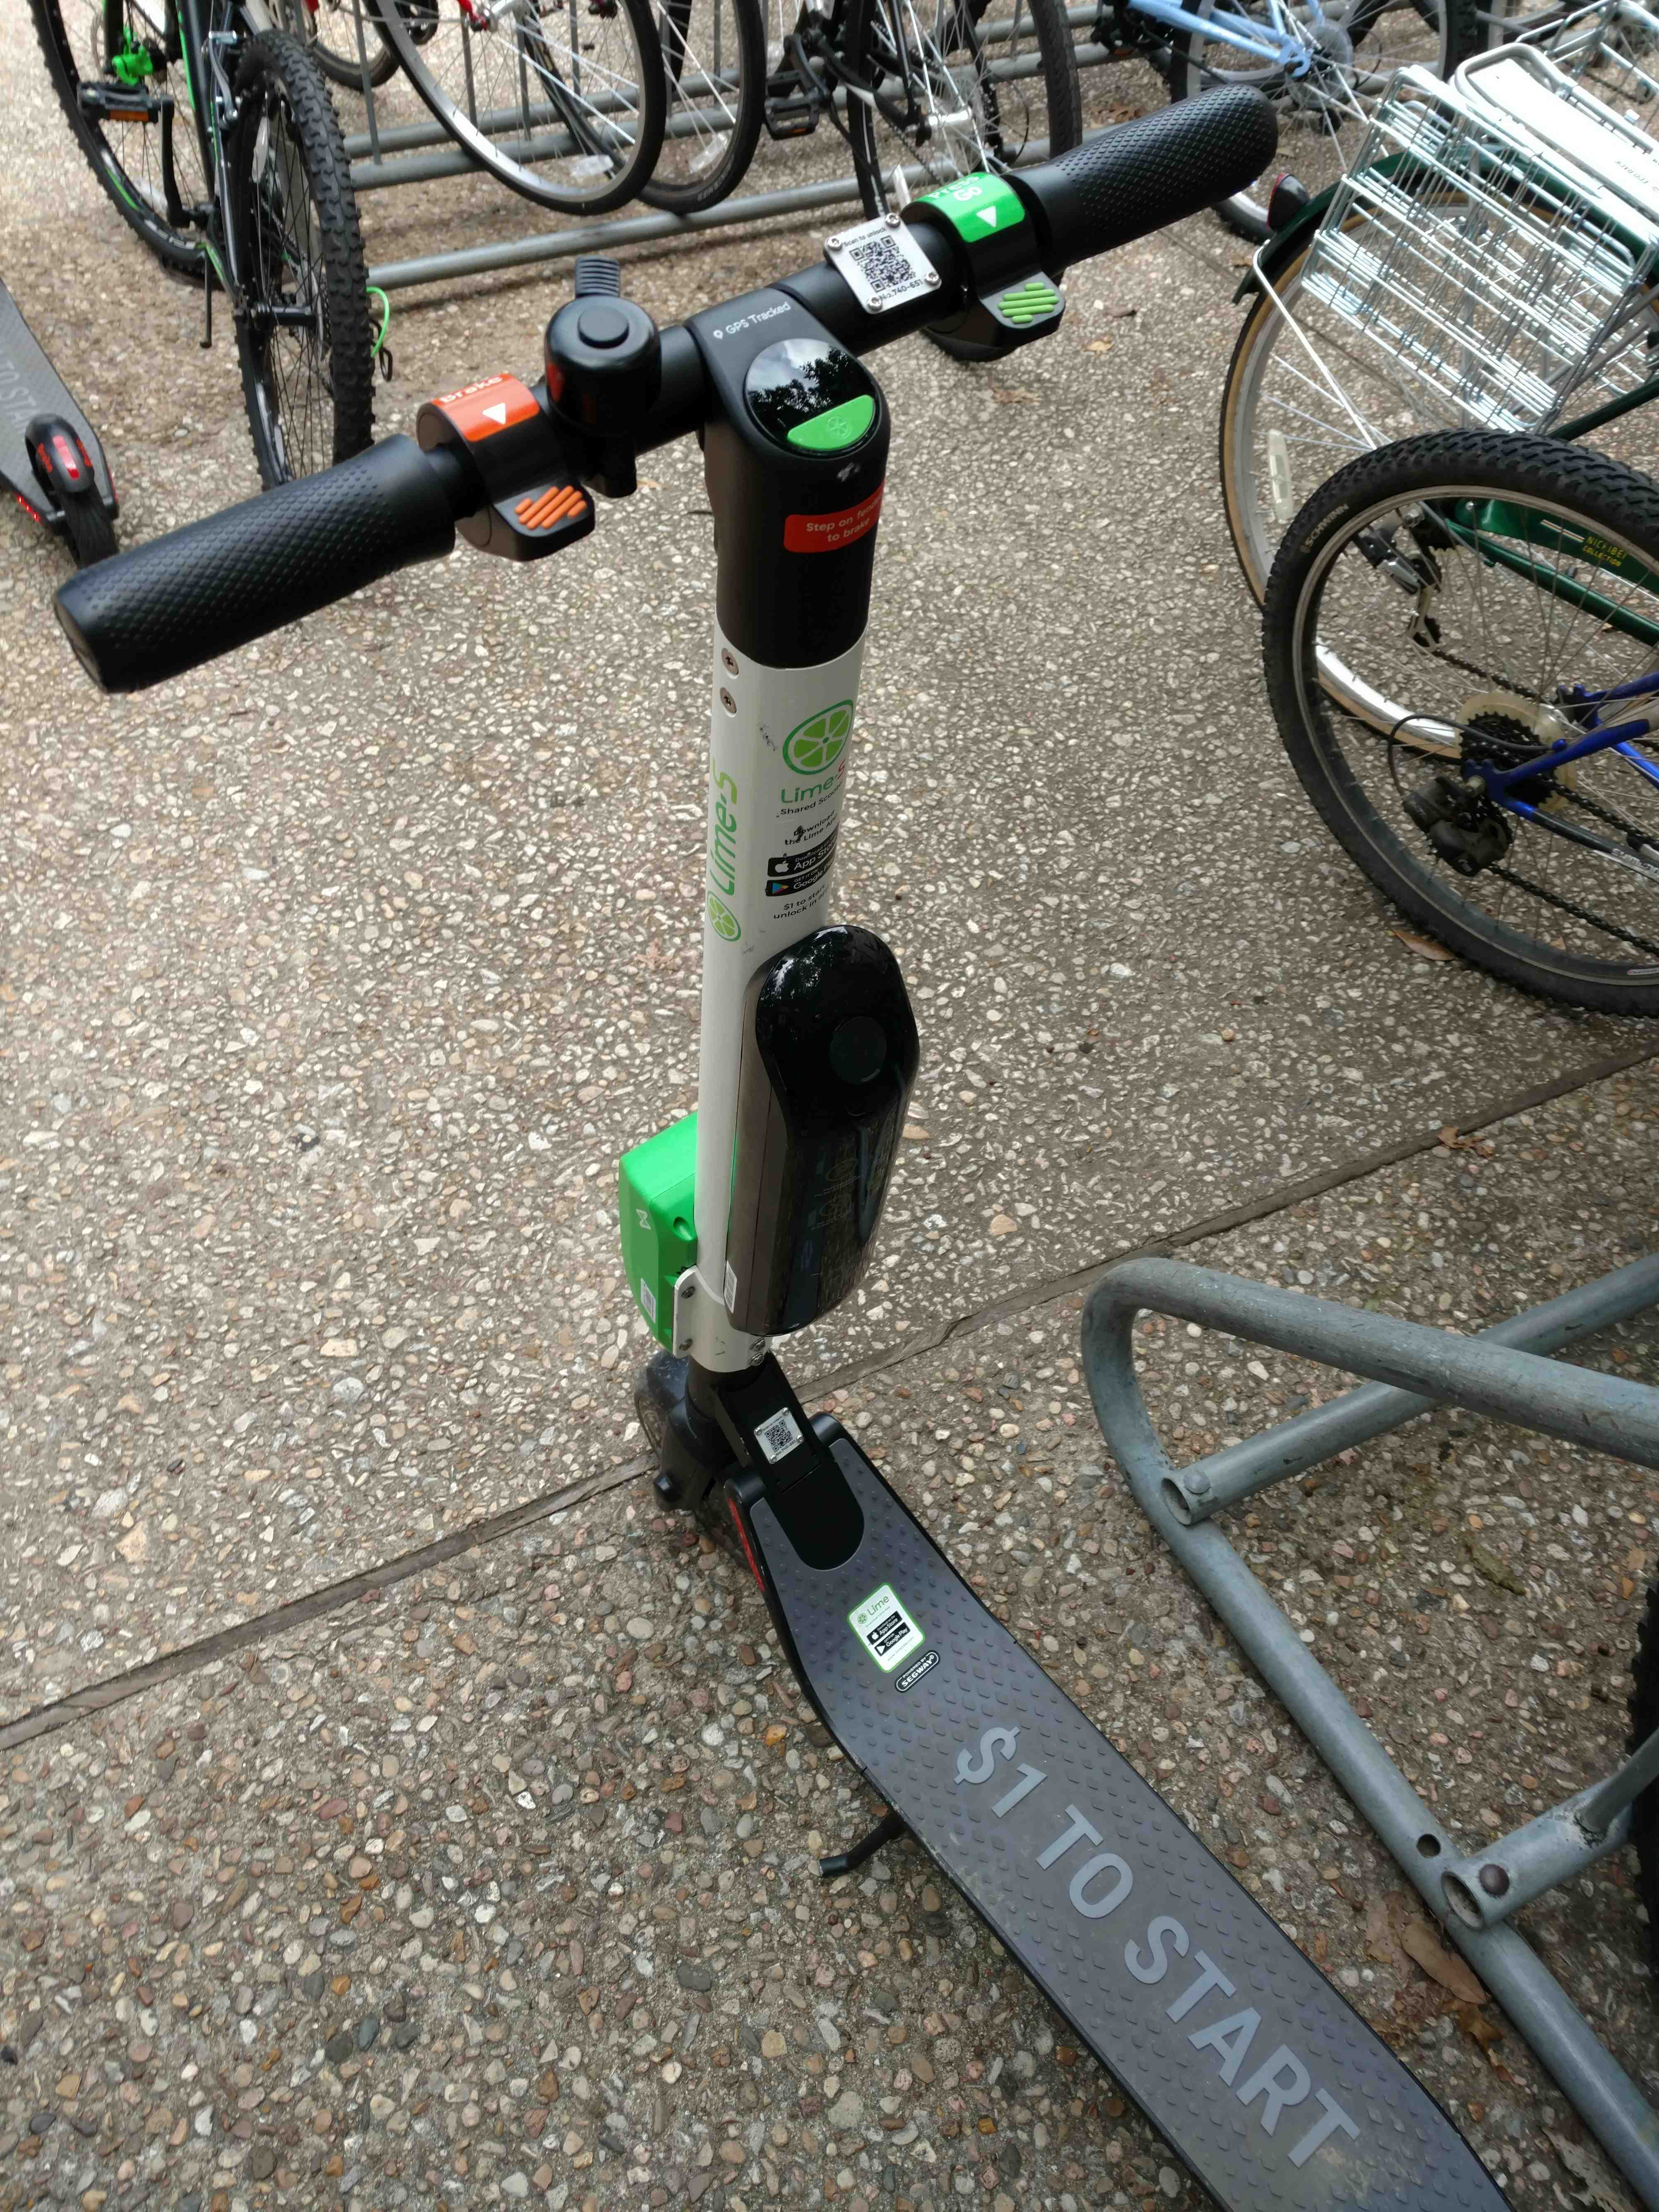scooter: (49, 96, 1601, 2212)
